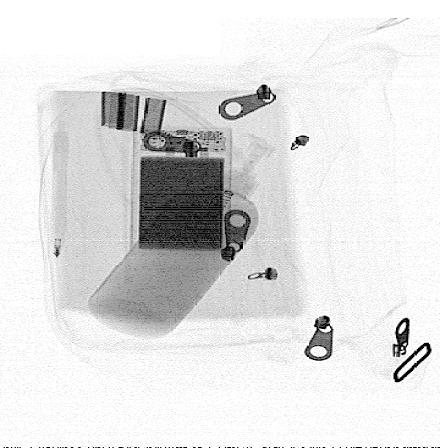Powerbank: (129, 127, 232, 256)
